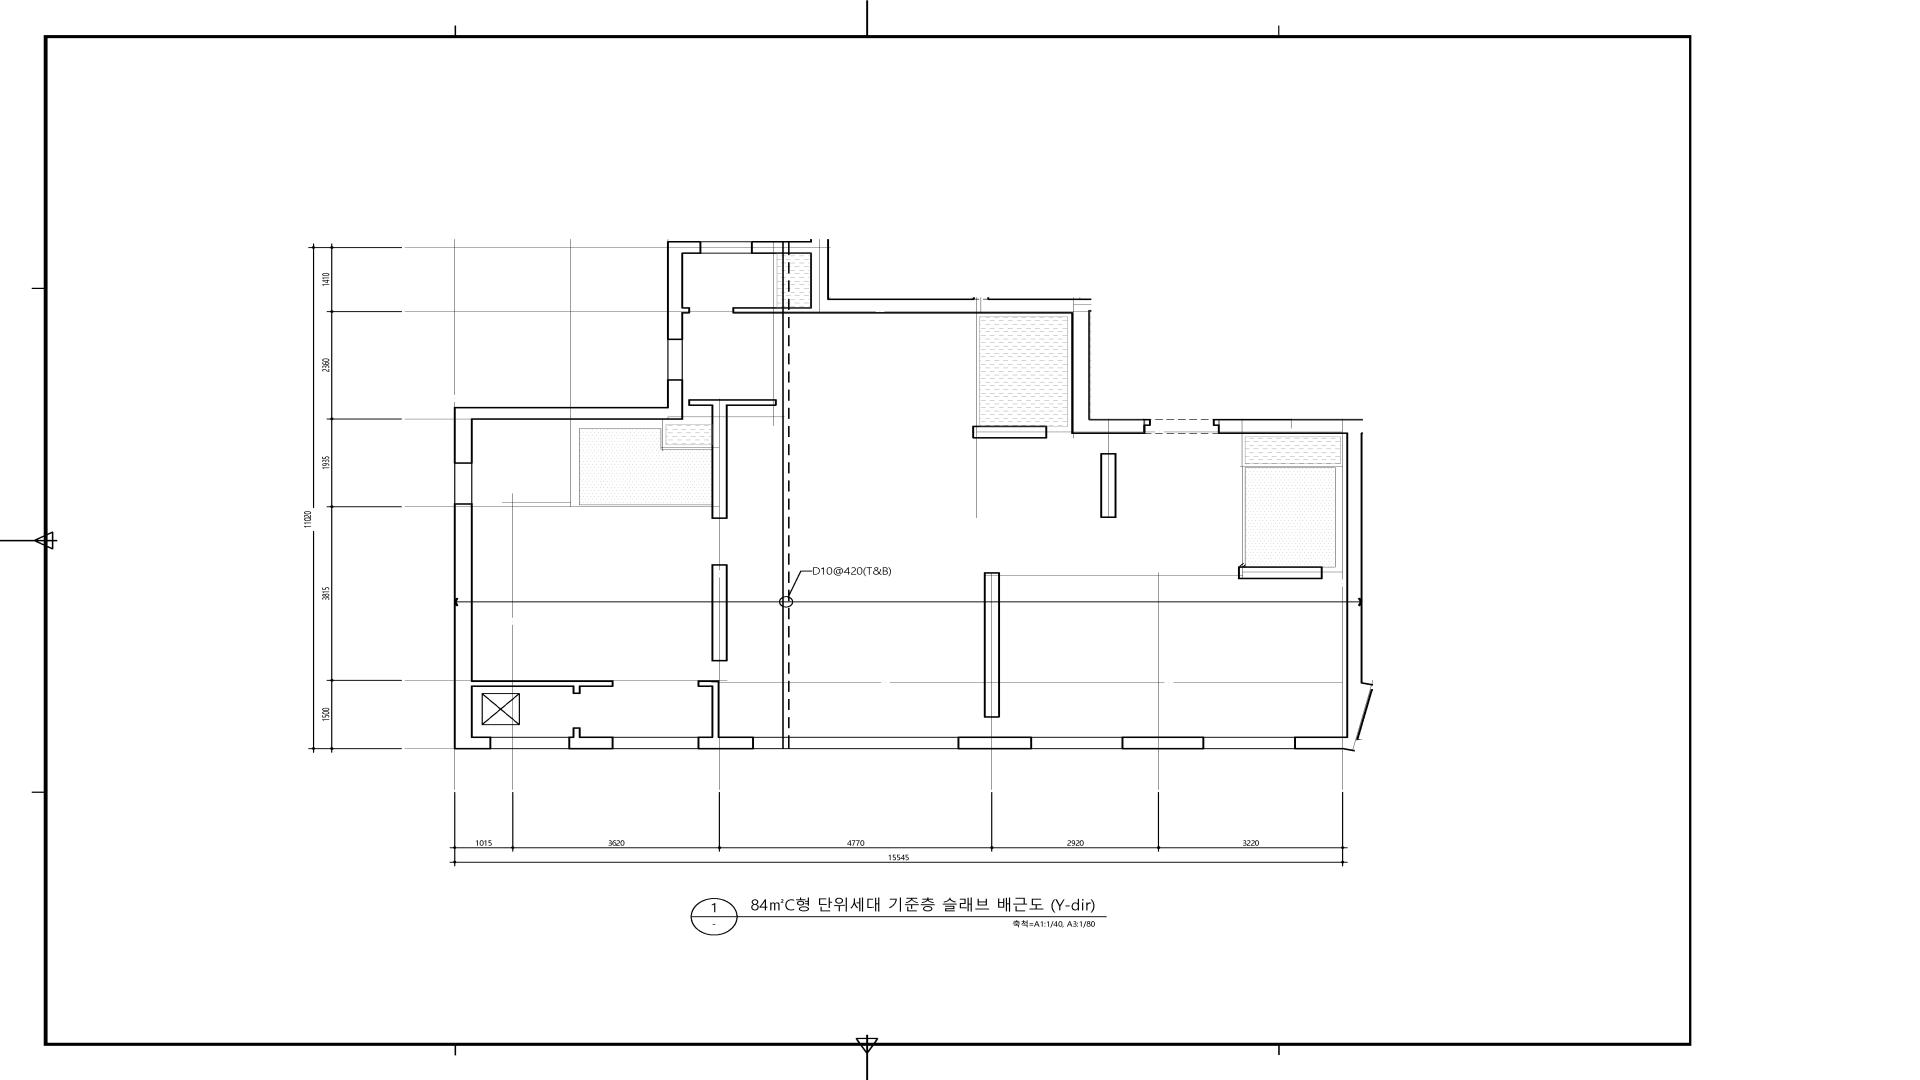wall: (454, 503, 473, 737), (1346, 434, 1362, 682), (829, 299, 1090, 314), (473, 407, 683, 420), (984, 572, 1000, 718), (1218, 419, 1363, 434), (1071, 314, 1090, 419), (711, 406, 728, 519), (711, 564, 728, 662), (1346, 682, 1375, 739), (667, 254, 683, 340), (810, 254, 829, 314), (1071, 419, 1146, 434), (1238, 566, 1323, 579), (1100, 453, 1117, 518), (454, 407, 473, 464), (1121, 737, 1204, 750), (751, 241, 829, 254), (473, 680, 614, 687), (957, 737, 1032, 750), (972, 426, 1047, 439), (1294, 737, 1359, 752), (697, 737, 754, 750), (688, 399, 777, 406), (568, 737, 614, 750), (732, 307, 810, 314), (667, 379, 683, 407), (454, 737, 491, 749), (667, 241, 701, 254), (711, 687, 719, 736), (697, 680, 720, 687), (572, 727, 581, 736), (572, 687, 581, 694), (683, 307, 690, 314), (1146, 419, 1151, 426), (1213, 419, 1218, 426)
